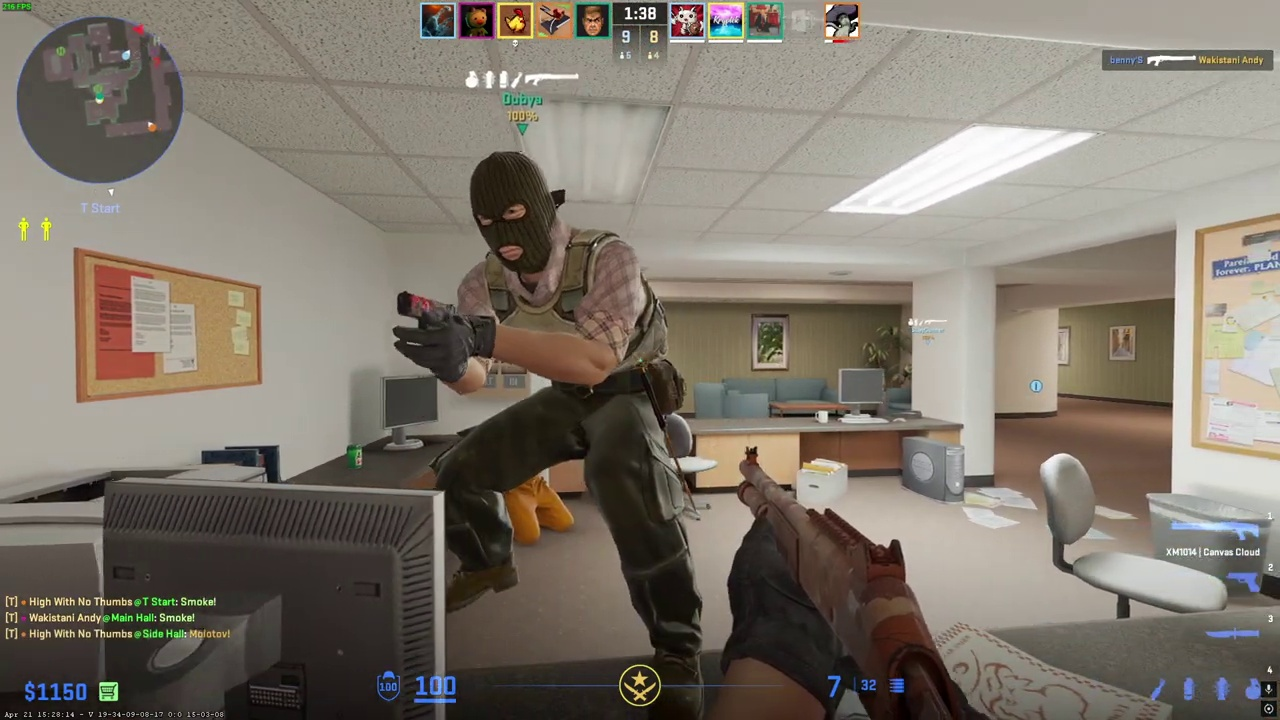Terrorist: (422, 151, 701, 720)
